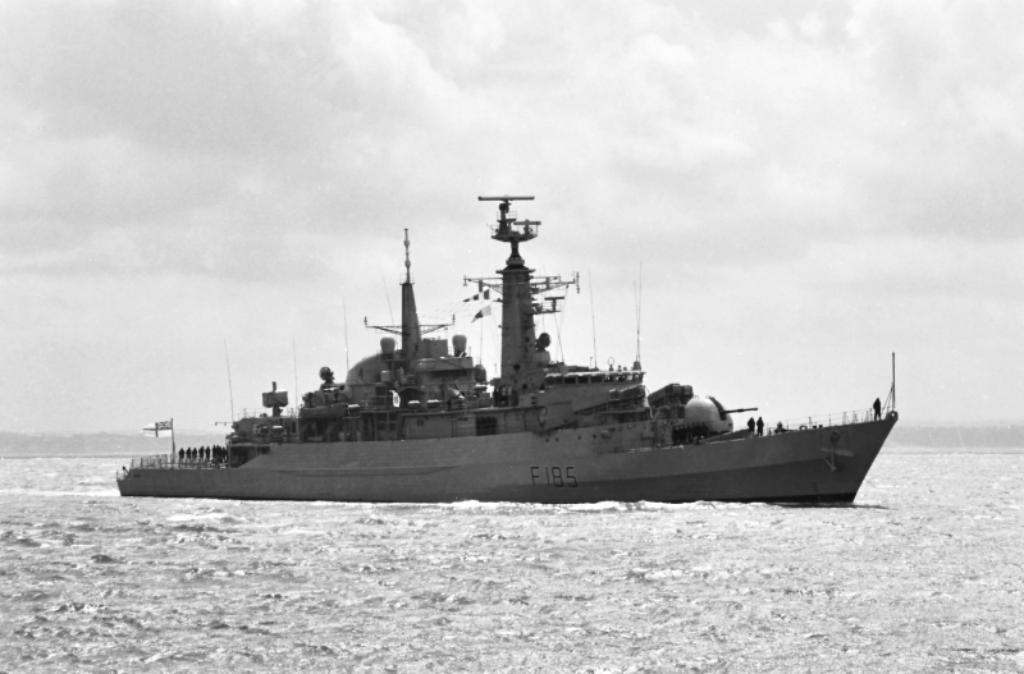Warship: (110, 185, 902, 510)
